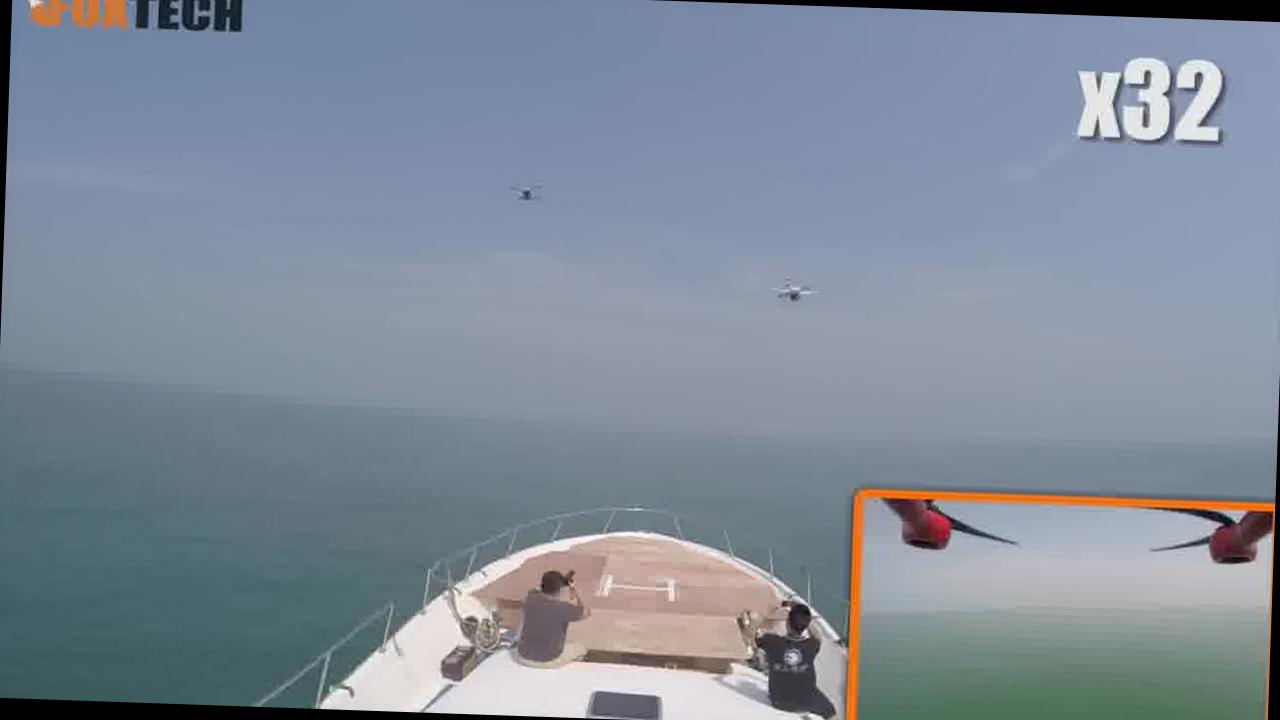drone: (499, 174, 553, 217), (765, 278, 826, 312)
